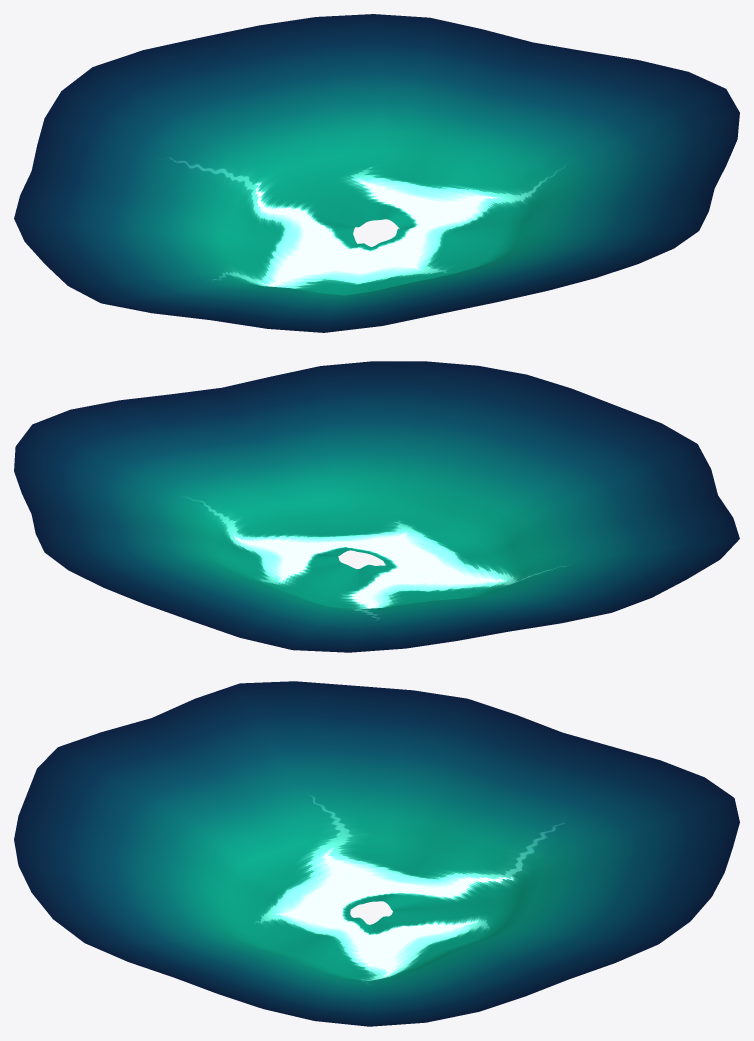
The model's file is Shockwave_01.fbx.
The picture shows the model from 3 angles, top to bottom: view 1: azimuth 30°, elevation 25°; view 2: azimuth 150°, elevation 25°; view 3: azimuth 270°, elevation 25°; orthographic projection. The views are drawn at different scales.
Visible parts, largest first — view 1: pCone1; view 2: pCone1; view 3: pCone1.
Boxes of the visible parts, x1,y1,x2,y2 form: pCone1: (14, 14, 739, 332); pCone1: (14, 361, 739, 652); pCone1: (14, 681, 739, 1026).
Size of the model in its own units: 7.43 by 0.7934 by 6.58.
